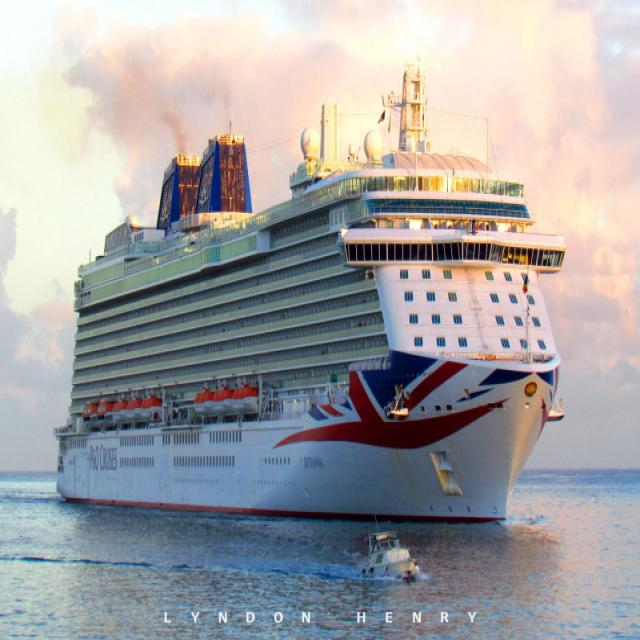cruises: (47, 59, 585, 531)
